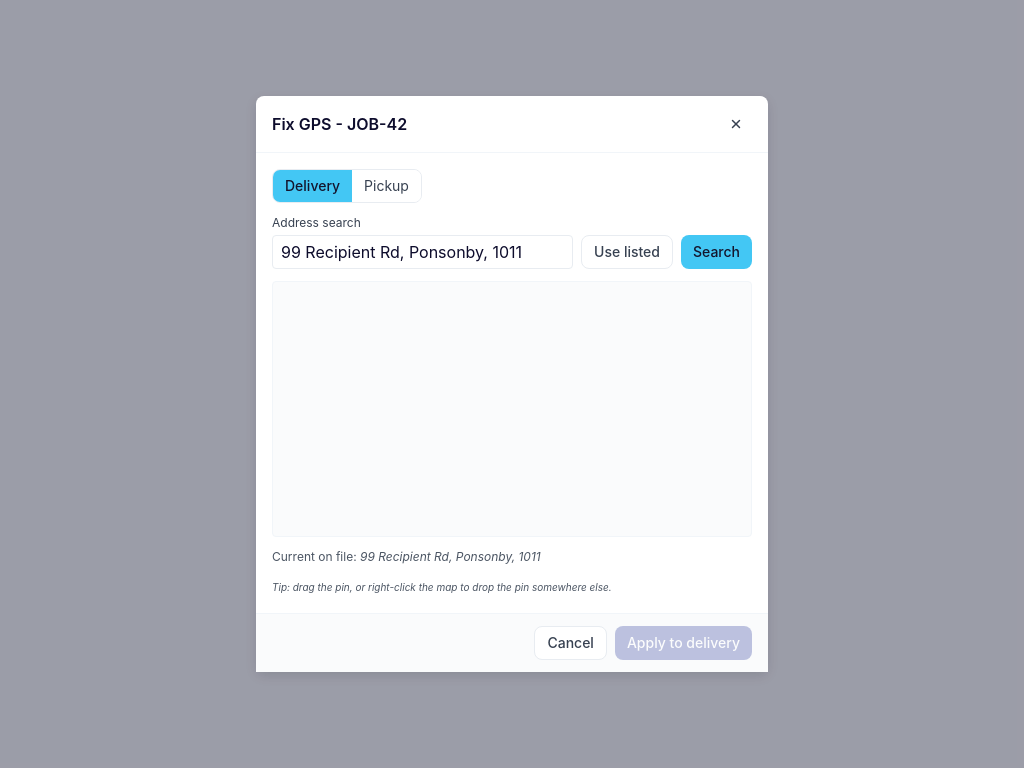
Scenario: FixGpsModal › Use listed button re-geocodes the current address
This screenshot has width=1024, height=768.
Click the button "Use listed" at (627, 252), box [581,235,673,269]
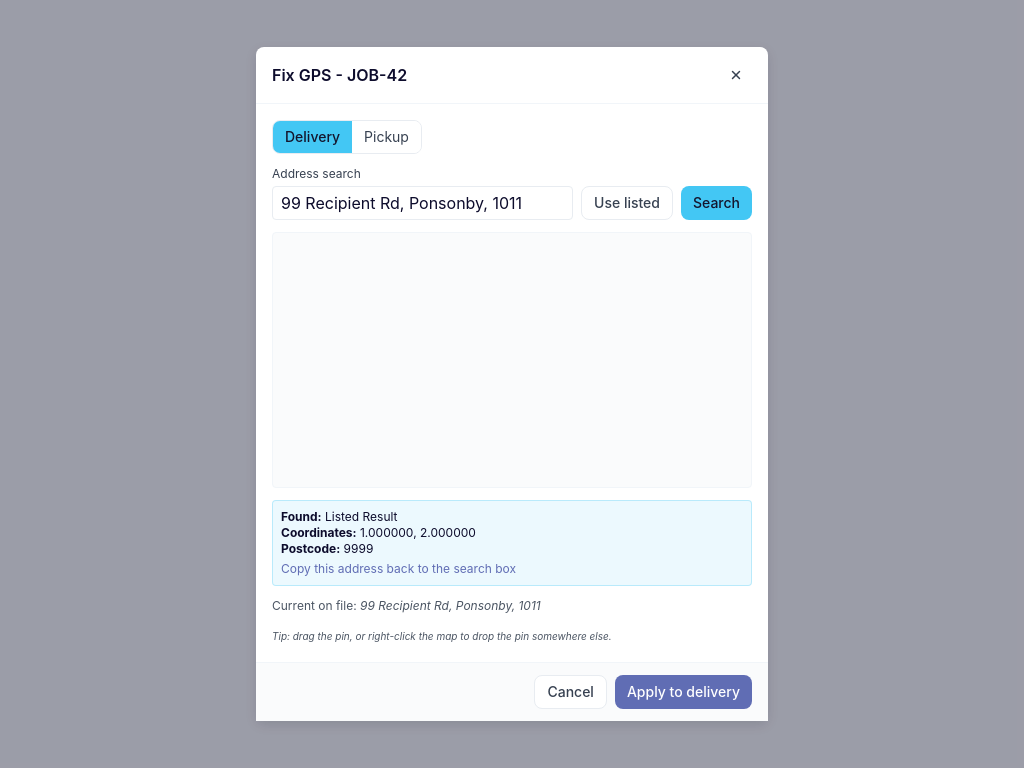
Now the text "Found: Listed Result" is shown, box [281,509,398,524]
